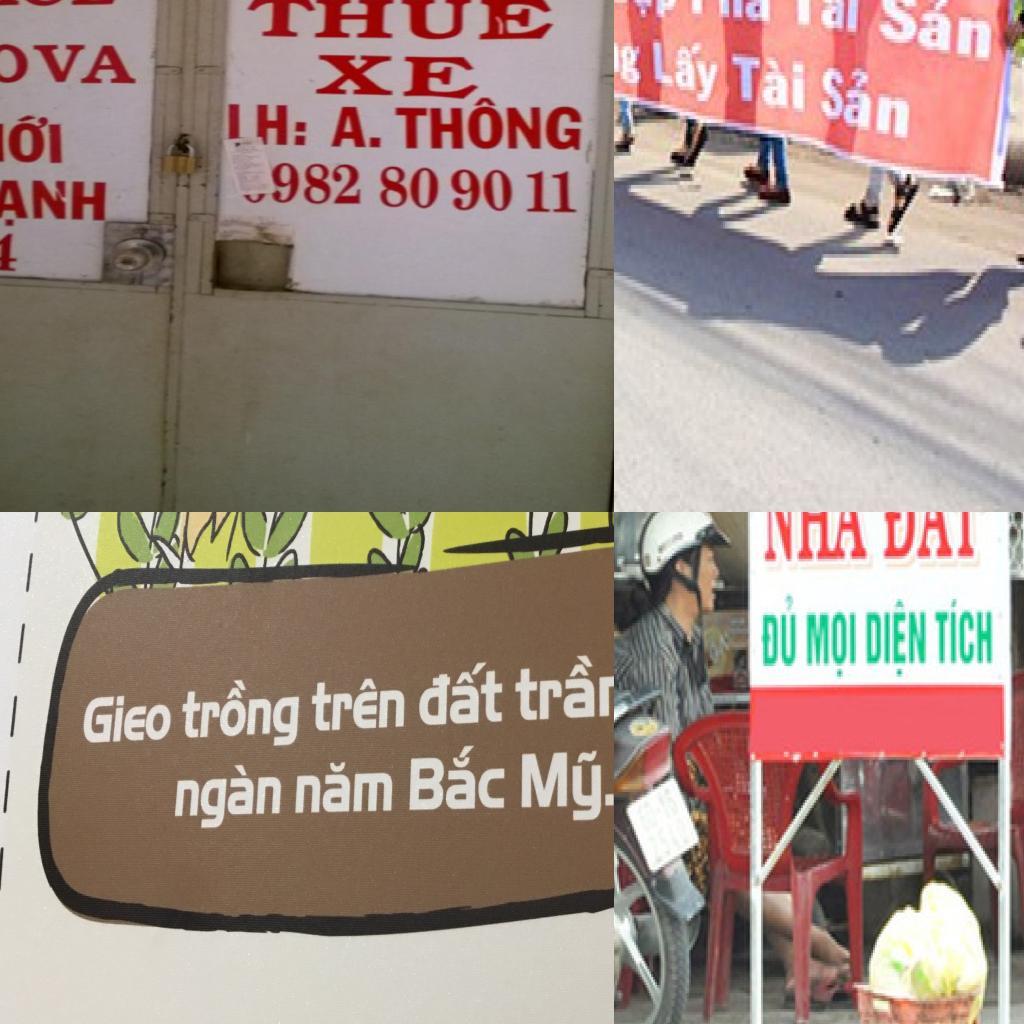text: (328, 98, 585, 152), (242, 0, 568, 42), (180, 675, 306, 752), (166, 761, 288, 834), (876, 0, 993, 68), (308, 55, 480, 100), (407, 740, 508, 814), (513, 650, 614, 723), (415, 656, 506, 730), (651, 32, 729, 116), (310, 671, 408, 737), (0, 175, 114, 231), (292, 757, 398, 817), (0, 41, 142, 85), (82, 683, 176, 745), (763, 512, 873, 564), (731, 50, 807, 119), (880, 512, 986, 561), (865, 599, 928, 679), (272, 158, 363, 206), (221, 100, 310, 148), (934, 599, 994, 669), (806, 610, 860, 682), (0, 111, 67, 166), (784, 0, 864, 42), (761, 596, 799, 672), (690, 0, 774, 31), (614, 13, 645, 93), (614, 0, 679, 31), (0, 228, 22, 274)
